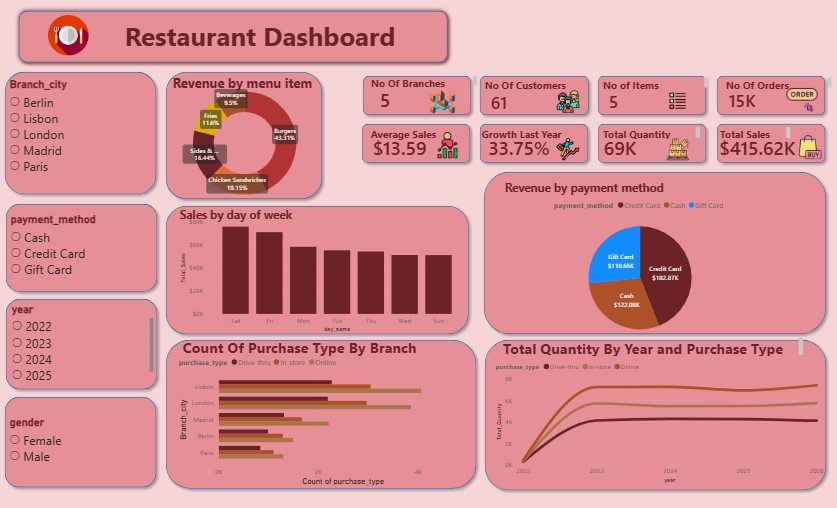

The dashboard page shown, as its layout file describes it:
{"tool":"powerbi","page":{"name":"Product and payement","canvas":[1550,950],"ordinal":3},"visuals":[{"type":"shape","box":[25.3,13.3,811.7,113.3],"z":0},{"type":"shape","box":[1.7,547,298.3,185.7],"z":0,"group":"g2"},{"type":"group","id":"g1","title":"Group 2","box":[0,729.3,298.3,185.7],"z":0,"group":"g8"},{"type":"shape","box":[662,133.1,218.4,90.8],"z":1000},{"type":"group","id":"g2","title":"Group 5","box":[1.7,547,298.3,185.7],"z":1000,"group":"g8"},{"type":"textbox","box":[225.3,30,811.7,150],"z":2000},{"type":"group","id":"g3","title":"Group 6","box":[1.7,371.5,298.3,180.6],"z":2000,"group":"g8"},{"type":"group","id":"g4","title":"Group 7","box":[0,126.7,298.3,244.8],"z":3000,"group":"g8"},{"type":"shape","box":[879.4,133.1,219.4,90.8],"z":3000},{"type":"image","box":[25.3,30,200,75],"z":4000},{"type":"shape","box":[1098.9,133.1,218.4,90.8],"z":5000},{"type":"shape","box":[1318.3,133.1,218.4,90.8],"z":6000},{"type":"group","id":"g5","title":"Group 3","box":[298.6,623.1,592.9,294],"z":7001,"group":"g6"},{"type":"cardVisual","fields":{"Data":["Dax_Measures.#branches"]},"box":[674.3,154.3,185.7,64.3],"z":9000},{"type":"listSlicer","fields":{"Values":["Dim_Dates.year"]},"box":[16.7,562.8,273.3,155.3],"z":10000,"group":"g2"},{"type":"textbox","box":[680.7,137.3,207.2,30.8],"z":11000},{"type":"group","id":"g6","title":"Group 2","box":[298.6,623.1,592.9,294],"z":12000},{"type":"textbox","box":[892.9,140,218.6,50],"z":14000},{"type":"group","id":"g7","title":"Group 4","box":[888.3,621.7,650,296.7],"z":15000},{"type":"cardVisual","fields":{"Data":["Dax_Measures.#Customers"]},"box":[880,157.1,217.1,64.3],"z":16000},{"type":"cardVisual","fields":{"Data":["Dax_Measures.#items"]},"box":[1098.2,133.1,218.6,106.9],"z":17000},{"type":"textbox","box":[1111.5,140.2,206.3,30.5],"z":18000},{"type":"textbox","box":[1338.7,140.2,206.5,30.9],"z":19000},{"type":"cardVisual","fields":{"Data":["Dax_Measures.#Orders"]},"box":[1320,151.4,218.6,67.1],"z":20000},{"type":"image","box":[770.7,165.8,97.6,47.5],"z":21000},{"type":"image","box":[1435,156.7,100,58.3],"z":22000},{"type":"image","box":[1019.3,168.2,66.4,42.7],"z":23000},{"type":"image","box":[1206.7,173,95,33.2],"z":24000},{"type":"shape","box":[880,222.4,218.6,90.2],"z":25000},{"type":"shape","box":[1098.7,222.8,218.6,90.2],"z":26000},{"type":"shape","box":[1318.6,222.4,218.6,90.2],"z":27000},{"type":"shape","box":[661.4,222.8,218.6,90.2],"z":28000},{"type":"cardVisual","fields":{"Data":["Dax_Measures.Avgerage_Sales","Dax_Measures.Growth_LY_%","Dax_Measures.Total_Quantity","Dax_Measures.Total_Sales"]},"box":[661.4,240,882.9,65.7],"z":29000},{"type":"textbox","box":[680.8,231.5,183.1,41.7],"z":30000},{"type":"shape","box":[888.3,621.7,650,296.7],"z":30000,"group":"g7"},{"type":"textbox","box":[887.1,231.4,191.4,61.4],"z":31000},{"type":"lineChart","fields":{"Category":["Dim_Dates.year"],"Y":["Dax_Measures.Total_Quantity"],"Series":["Fact_Order.purchase_type"]},"box":[911.7,660.8,617.6,240.2],"z":31000,"group":"g7"},{"type":"textbox","box":[1111.7,231.7,190,33.3],"z":32000},{"type":"textbox","box":[1327.7,231.1,140.5,33.2],"z":33000},{"type":"image","box":[1215.8,257.3,76.8,41.6],"z":34000},{"type":"shape","box":[298.6,623.9,592.9,293.2],"z":34000,"group":"g5"},{"type":"image","box":[1460.4,251.3,75.5,45.1],"z":35000},{"type":"textbox","box":[925.3,621.7,565.6,44.1],"z":35000,"group":"g7"},{"type":"clusteredBarChart","fields":{"Category":["Dim_Branches.Branch_city"],"Y":["CountNonNull(Fact_Order.purchase_type)"],"Series":["Fact_Order.purchase_type"]},"box":[327,652.7,552.4,254.5],"z":35000,"group":"g5"},{"type":"image","box":[1019.3,257.3,66.4,41.6],"z":36000},{"type":"shape","box":[298.3,126.7,307.4,253.3],"z":37000},{"type":"image","box":[784.3,245.7,87.1,48.6],"z":38000},{"type":"donutChart","fields":{"Y":["Dax_Measures.Total_Sales"],"Category":["Dim_Menu.item_name"]},"box":[274,128,358,278],"z":39000},{"type":"textbox","box":[314.4,133.9,278.3,71.7],"z":40000},{"type":"textbox","box":[333.5,623.1,528,48],"z":40000,"group":"g5"},{"type":"shape","box":[298.6,374.3,578.6,255.7],"z":41000},{"type":"lineStackedColumnComboChart","fields":{"Category":["Dim_Dates.day_name"],"Y":["Dax_Measures.Total_Sales"]},"box":[328,398,540,224],"z":42000},{"type":"textbox","box":[328,380,520,52],"z":43000},{"type":"shape","box":[0,126.7,298.3,244.8],"z":44000,"group":"g4"},{"type":"shape","box":[886.7,311.7,651.7,318.3],"z":44000},{"type":"listSlicer","fields":{"Values":["Dim_Branches.Branch_city"]},"box":[13.3,147,273.3,199.2],"z":45000,"group":"g4"},{"type":"pieChart","fields":{"Y":["Dax_Measures.Total_Sales"],"Category":["Fact_Order.payment_method"]},"box":[820,362,730,282],"z":45000},{"type":"textbox","box":[930,330,508,44],"z":46000},{"type":"shape","box":[1.7,371.5,298.3,180.6],"z":46000,"group":"g3"},{"type":"group","id":"g8","title":"Group 8","box":[0,126.7,300,788.3],"z":46001},{"type":"shape","box":[0,729.3,298.3,185.7],"z":47000,"group":"g1"},{"type":"listSlicer","fields":{"Values":["Fact_Order.payment_method"]},"box":[15,396.8,273.3,133.4],"z":48000,"group":"g3"},{"type":"listSlicer","fields":{"Values":["Dim_Customer.gender"]},"box":[13.3,773.8,273.3,104.7],"z":49000,"group":"g1"}]}

Visuals, with their boxes in screenshot pixels (x1, y1, x2, y2), scaled from the page's 1550x950 canvas onto the 837x508 screenshot:
shape: [x1=14, y1=7, x2=452, y2=68]
shape: [x1=1, y1=293, x2=162, y2=392]
"Group 2" group: [x1=0, y1=390, x2=161, y2=489]
shape: [x1=357, y1=71, x2=475, y2=120]
"Group 5" group: [x1=1, y1=293, x2=162, y2=392]
textbox: [x1=122, y1=16, x2=560, y2=96]
"Group 6" group: [x1=1, y1=199, x2=162, y2=295]
"Group 7" group: [x1=0, y1=68, x2=161, y2=199]
shape: [x1=475, y1=71, x2=593, y2=120]
image: [x1=14, y1=16, x2=122, y2=56]
shape: [x1=593, y1=71, x2=711, y2=120]
shape: [x1=712, y1=71, x2=830, y2=120]
"Group 3" group: [x1=161, y1=333, x2=481, y2=490]
cardVisual - Dax_Measures.#branches: [x1=364, y1=83, x2=464, y2=117]
listSlicer - Dim_Dates.year: [x1=9, y1=301, x2=157, y2=384]
textbox: [x1=368, y1=73, x2=479, y2=90]
"Group 2" group: [x1=161, y1=333, x2=481, y2=490]
textbox: [x1=482, y1=75, x2=600, y2=102]
"Group 4" group: [x1=480, y1=332, x2=831, y2=491]
cardVisual - Dax_Measures.#Customers: [x1=475, y1=84, x2=592, y2=118]
cardVisual - Dax_Measures.#items: [x1=593, y1=71, x2=711, y2=128]
textbox: [x1=600, y1=75, x2=712, y2=91]
textbox: [x1=723, y1=75, x2=834, y2=91]
cardVisual - Dax_Measures.#Orders: [x1=713, y1=81, x2=831, y2=117]
image: [x1=416, y1=89, x2=469, y2=114]
image: [x1=775, y1=84, x2=829, y2=115]
image: [x1=550, y1=90, x2=586, y2=113]
image: [x1=652, y1=93, x2=703, y2=110]
shape: [x1=475, y1=119, x2=593, y2=167]
shape: [x1=593, y1=119, x2=711, y2=167]
shape: [x1=712, y1=119, x2=830, y2=167]
shape: [x1=357, y1=119, x2=475, y2=167]
cardVisual - Dax_Measures.Avgerage_Sales x Dax_Measures.Growth_LY_%: [x1=357, y1=128, x2=834, y2=163]
textbox: [x1=368, y1=124, x2=467, y2=146]
shape: [x1=480, y1=332, x2=831, y2=491]
textbox: [x1=479, y1=124, x2=582, y2=157]
lineChart - Dim_Dates.year x Dax_Measures.Total_Quantity: [x1=492, y1=353, x2=826, y2=482]
textbox: [x1=600, y1=124, x2=703, y2=142]
textbox: [x1=717, y1=124, x2=793, y2=141]
image: [x1=657, y1=138, x2=698, y2=160]
shape: [x1=161, y1=334, x2=481, y2=490]
image: [x1=789, y1=134, x2=829, y2=158]
textbox: [x1=500, y1=332, x2=805, y2=356]
clusteredBarChart - Dim_Branches.Branch_city x CountNonNull(Fact_Order.purchase_type): [x1=177, y1=349, x2=475, y2=485]
image: [x1=550, y1=138, x2=586, y2=160]
shape: [x1=161, y1=68, x2=327, y2=203]
image: [x1=424, y1=131, x2=471, y2=157]
donutChart - Dax_Measures.Total_Sales x Dim_Menu.item_name: [x1=148, y1=68, x2=341, y2=217]
textbox: [x1=170, y1=72, x2=320, y2=110]
textbox: [x1=180, y1=333, x2=465, y2=359]
shape: [x1=161, y1=200, x2=474, y2=337]
lineStackedColumnComboChart - Dim_Dates.day_name x Dax_Measures.Total_Sales: [x1=177, y1=213, x2=469, y2=333]
textbox: [x1=177, y1=203, x2=458, y2=231]
shape: [x1=0, y1=68, x2=161, y2=199]
shape: [x1=479, y1=167, x2=831, y2=337]
listSlicer - Dim_Branches.Branch_city: [x1=7, y1=79, x2=155, y2=185]
pieChart - Dax_Measures.Total_Sales x Fact_Order.payment_method: [x1=443, y1=194, x2=836, y2=344]
textbox: [x1=502, y1=176, x2=777, y2=200]
shape: [x1=1, y1=199, x2=162, y2=295]
"Group 8" group: [x1=0, y1=68, x2=162, y2=489]
shape: [x1=0, y1=390, x2=161, y2=489]
listSlicer - Fact_Order.payment_method: [x1=8, y1=212, x2=156, y2=284]
listSlicer - Dim_Customer.gender: [x1=7, y1=414, x2=155, y2=470]
